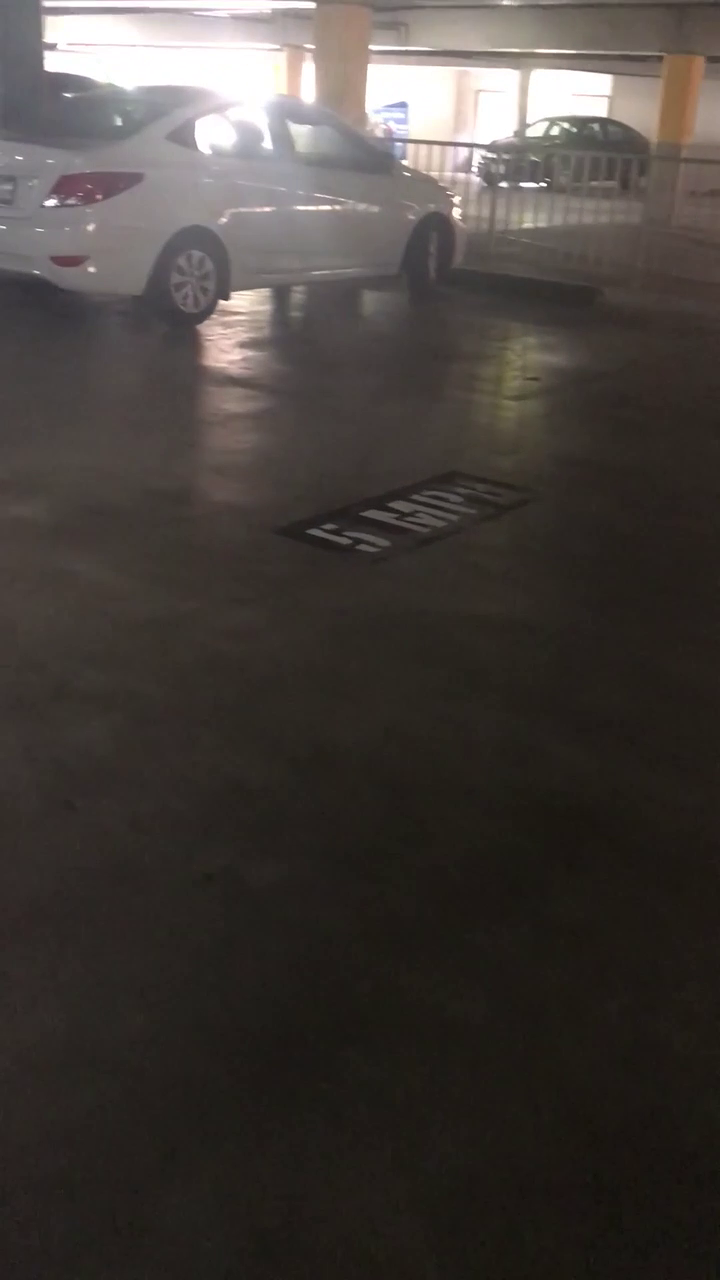car: (3, 53, 447, 342)
